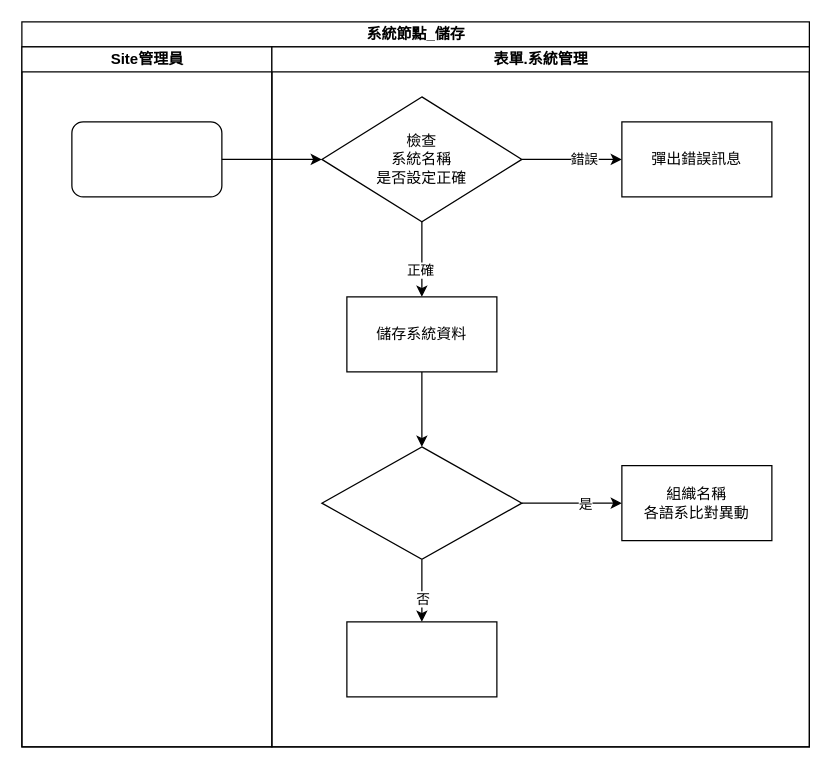
Some shapes in this 831 by 769 pixel diagram are drawn without their labels. The centre of each missing label's shape, as x and y in pixels:
欄位.主系統(組裝代號) 有異動: point (421, 502)
組織名稱 不做任何比對異動: point (421, 659)
點擊按鈕.儲存: point (146, 159)
